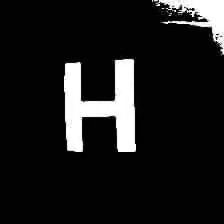LTR_H: (59, 50, 138, 155)
